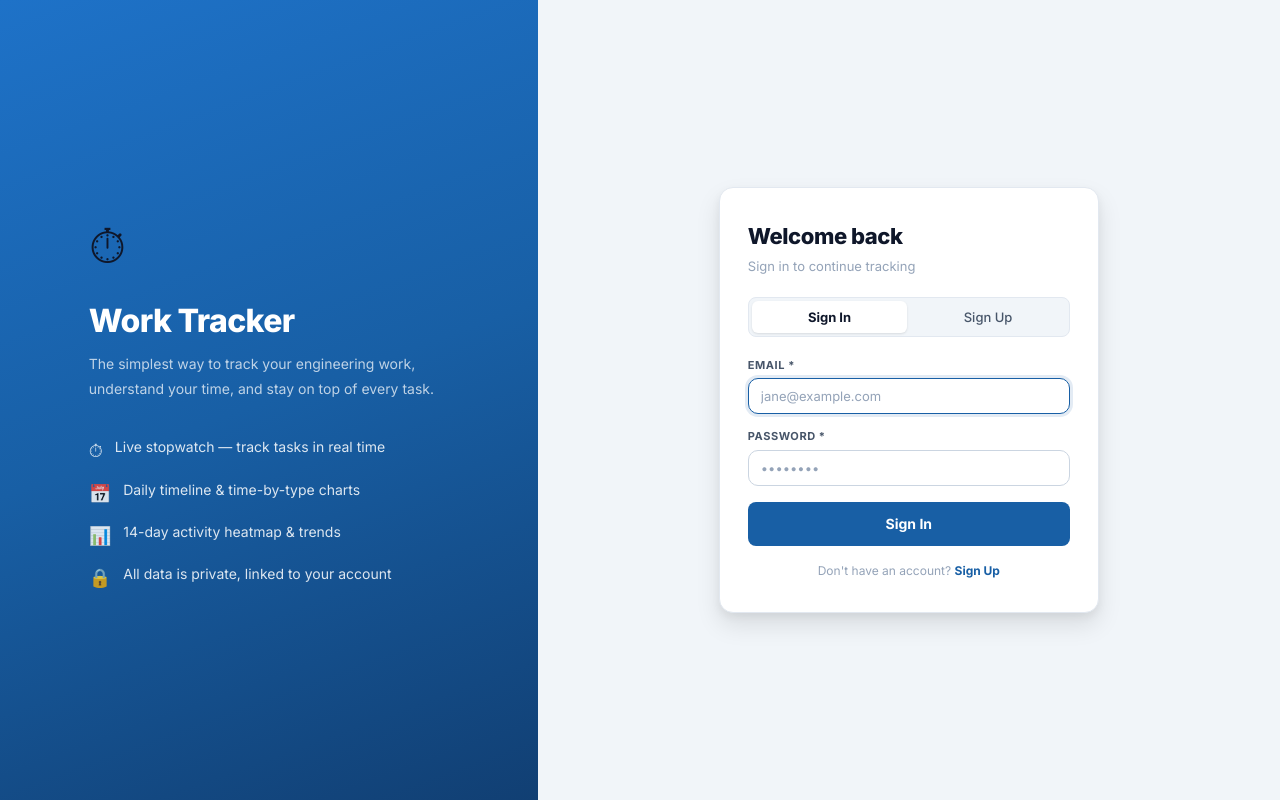
Test: AuthPage › shows signup-only fields after switching modes
What coordinates should you click on to do the following:
click the 1st button "Sign Up"
I would click on:
 (988, 317)
Its box is x1=910 y1=301 x2=1066 y2=333.
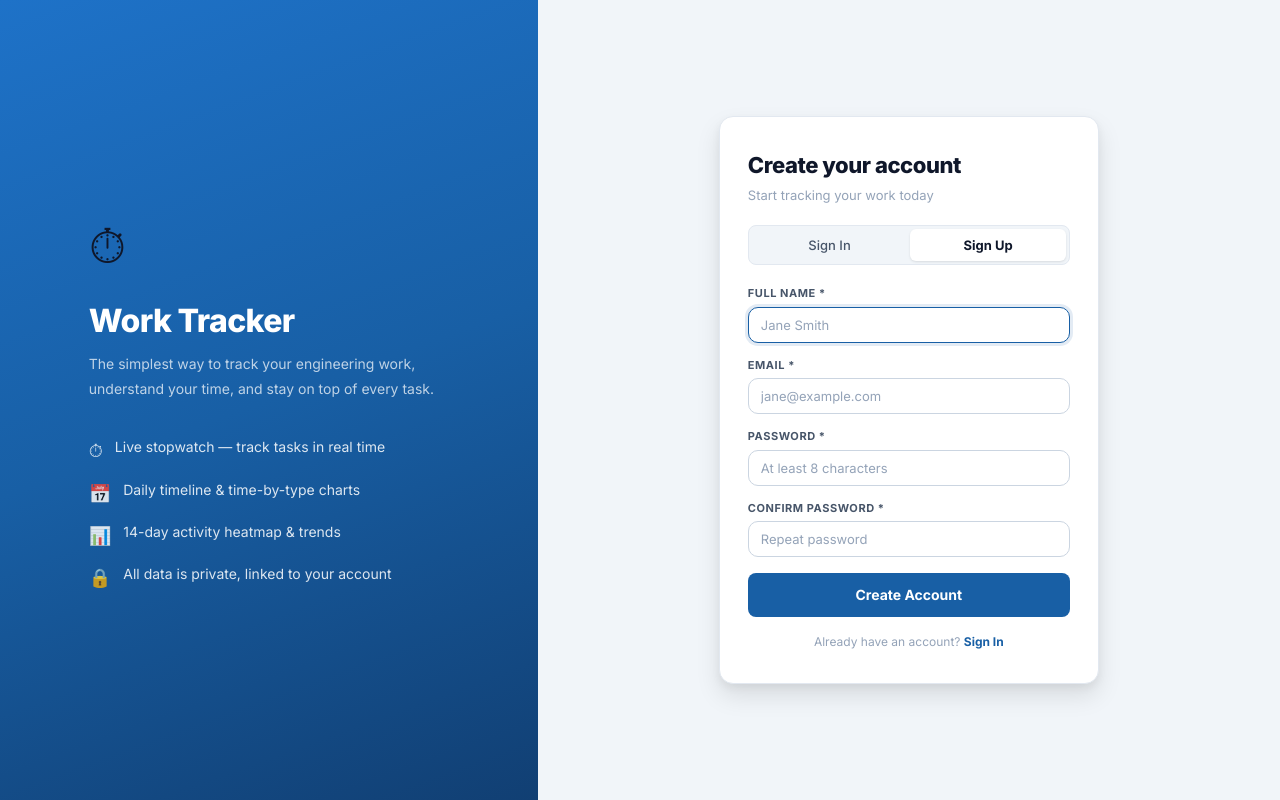
Now the field with placeholder "Jane Smith" is shown, box x1=748 y1=307 x2=1070 y2=343
Now the password field with placeholder "Repeat password" is shown, box x1=748 y1=522 x2=1070 y2=558
